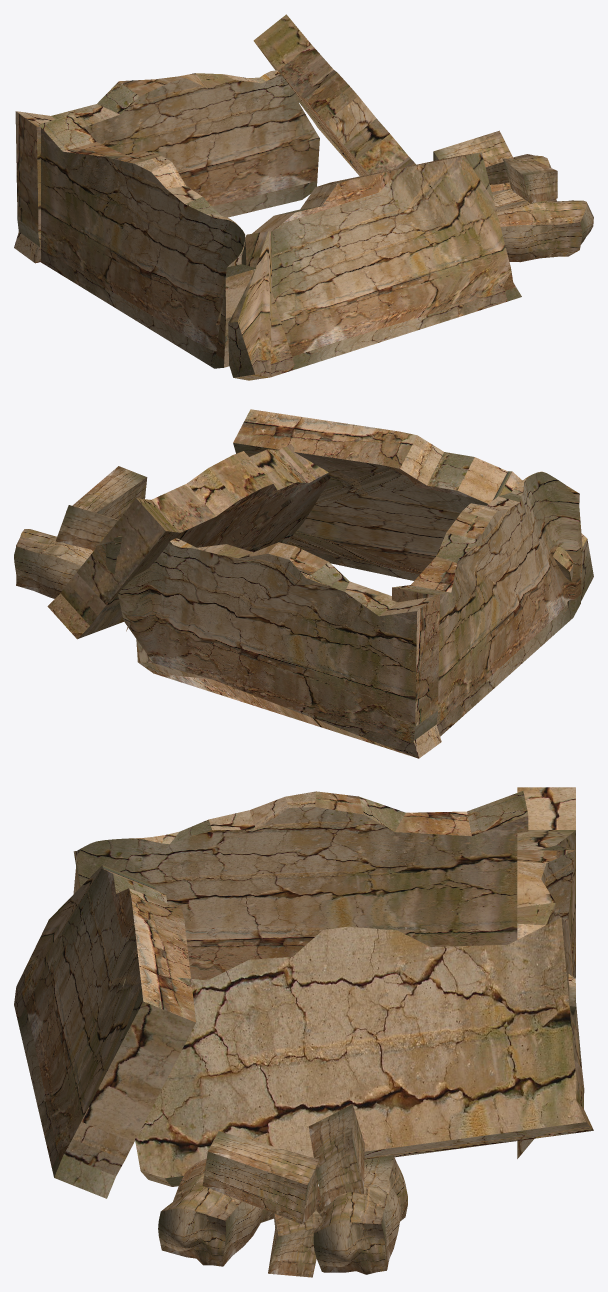
The model's file is TiltedHouse.FBX.
The picture shows the model from 3 angles, top to bottom: view 1: azimuth 30°, elevation 25°; view 2: azimuth 150°, elevation 25°; view 3: azimuth 270°, elevation 25°; orthographic projection. The views are drawn at different scales.
Visible parts, largest first — view 1: Line003, Line002, Line004, Line001, Box002, Box003, Box004; view 2: Line004, Line002, Line003, Line001, Box001, Box003, Box004; view 3: Line001, Line002, Line003, Line004, Box001, Box003, Box002, Box004, Box005.
Boxes of the visible parts, left/top/right/bottom form: Line003: left=216, top=152, right=521, bottom=380; Line002: left=38, top=114, right=256, bottom=368; Line004: left=14, top=70, right=319, bottom=263; Line001: left=253, top=14, right=432, bottom=188; Box002: left=496, top=200, right=593, bottom=262; Box003: left=502, top=158, right=557, bottom=203; Box004: left=433, top=130, right=513, bottom=184; Line004: left=95, top=536, right=441, bottom=758; Line002: left=392, top=471, right=582, bottom=736; Line003: left=233, top=409, right=593, bottom=600; Line001: left=47, top=442, right=330, bottom=639; Box001: left=14, top=529, right=128, bottom=631; Box003: left=72, top=466, right=147, bottom=519; Box004: left=55, top=505, right=118, bottom=550; Line001: left=122, top=917, right=593, bottom=1186; Line002: left=73, top=791, right=528, bottom=980; Line003: left=14, top=865, right=195, bottom=1198; Line004: left=517, top=787, right=575, bottom=1158; Box001: left=313, top=1155, right=407, bottom=1274; Box003: left=202, top=1131, right=318, bottom=1224; Box002: left=158, top=1158, right=273, bottom=1266; Box004: left=308, top=1104, right=364, bottom=1206; Box005: left=268, top=1209, right=322, bottom=1277.
Bounding box in the file's own units: 174 × 68.2 × 138.
Materials: 1 (1 with a texture image).
